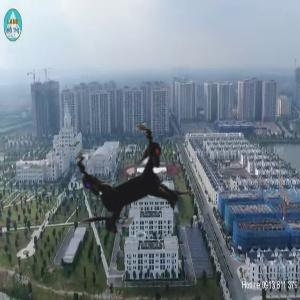drone: (22, 85, 233, 296)
